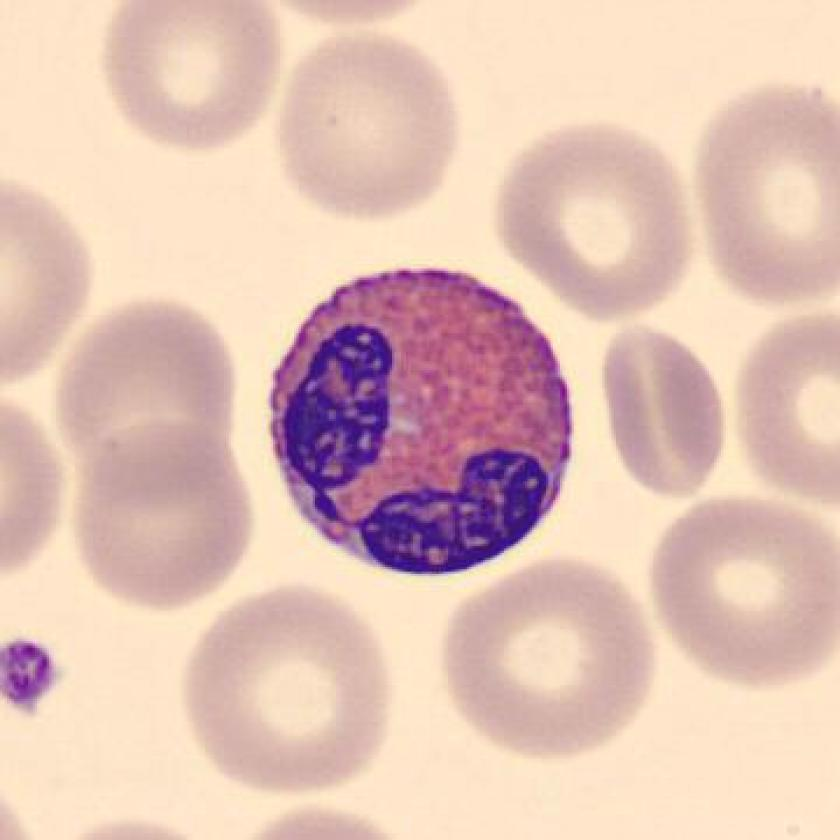eosinophil: (258, 260, 589, 584)
